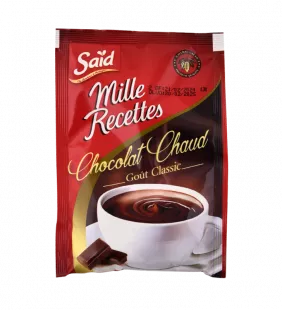SAID: (44, 20, 236, 284)
